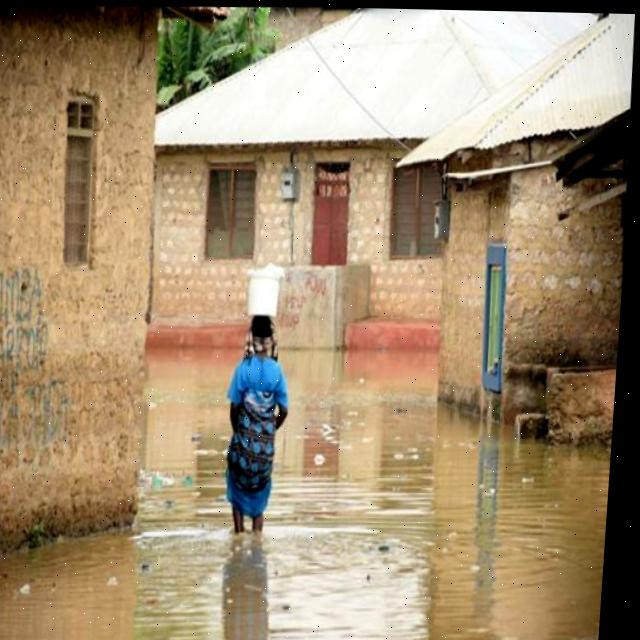civilian: (177, 310, 328, 573)
